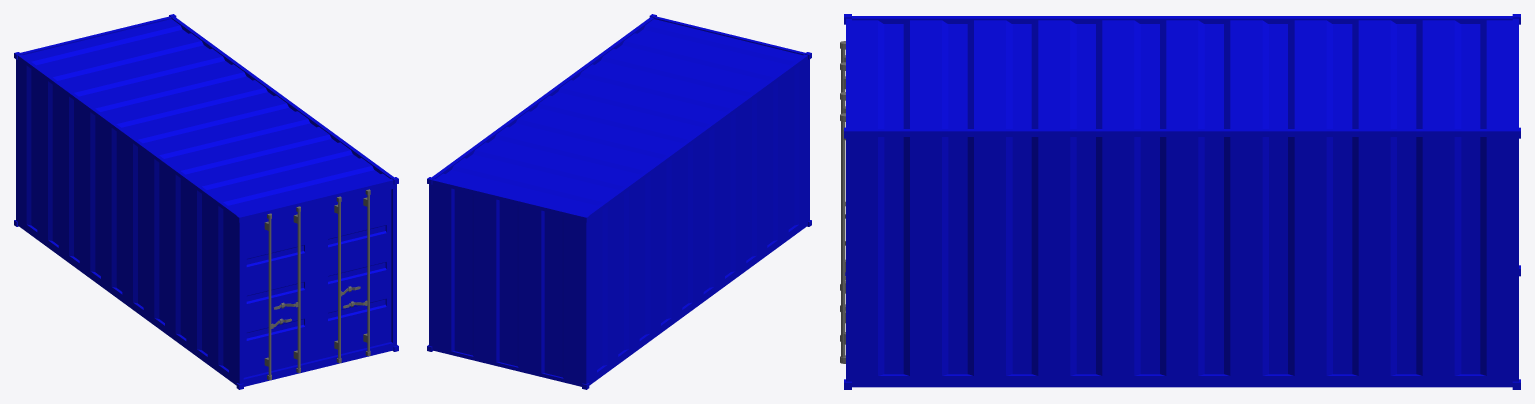
Rendered from СontainerCloseS.fbx.
3 views of the same model, side by side, from view 1: azimuth 30°, elevation 25°; view 2: azimuth 150°, elevation 25°; view 3: azimuth 270°, elevation 25° (orthographic). The views are drawn at different scales.
Parts seen in each view (by area): view 1: Сontainer Close S; view 2: Сontainer Close S; view 3: Сontainer Close S.
Boxes of the visible parts, <box> form: Сontainer Close S: <box>14,14,398,389</box>; Сontainer Close S: <box>427,14,811,389</box>; Сontainer Close S: <box>840,14,1520,389</box>.
Size of the model in its own units: 247 by 255 by 607.
